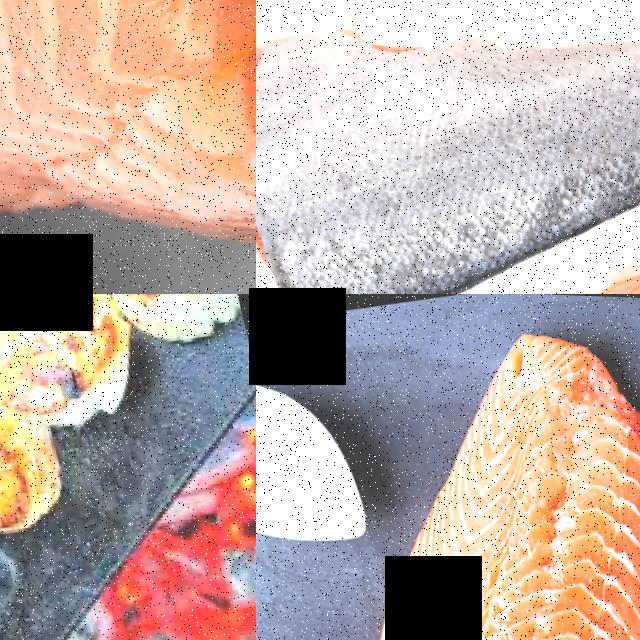salmon: (333, 317, 640, 640), (0, 0, 256, 234), (256, 209, 640, 294)
sea scallops: (0, 294, 132, 422), (0, 415, 65, 545), (88, 294, 242, 337)
